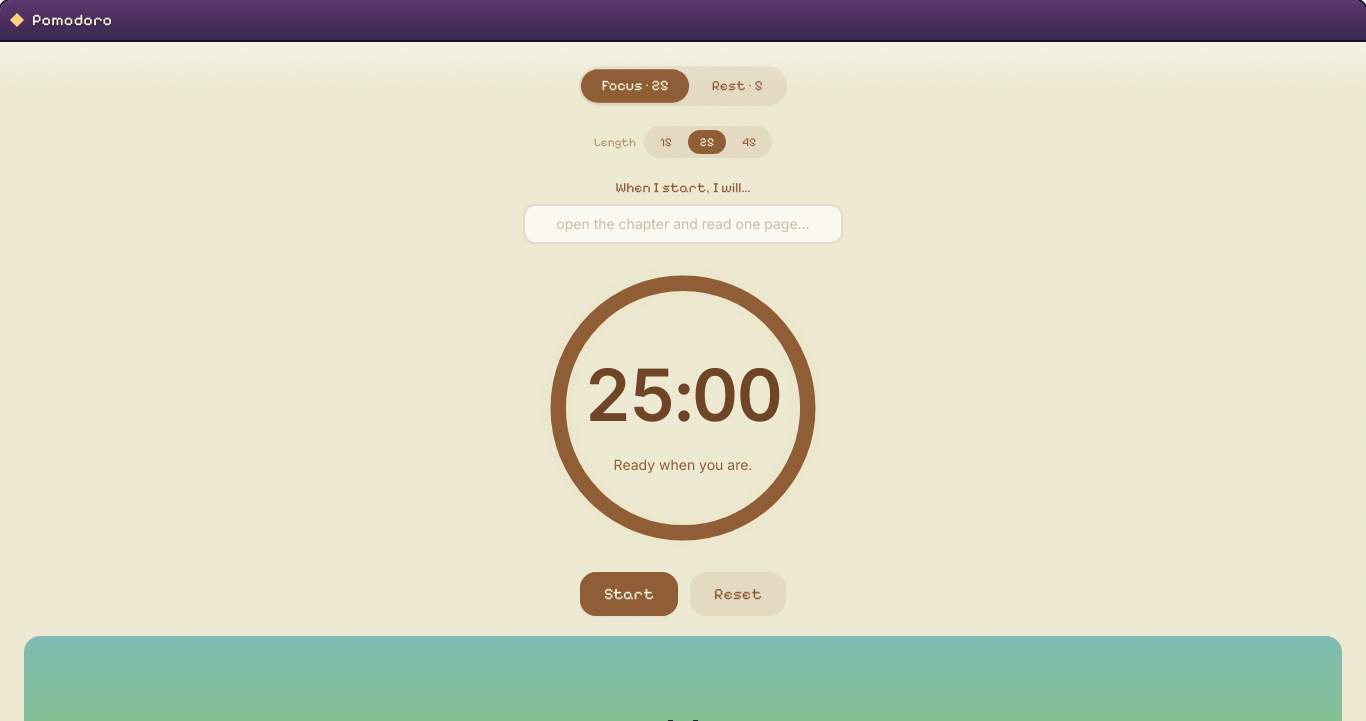
it: PomodoroTimer (timestamp-based countdown) › records a completed focus session to emily.stats when it reaches 0:00
Click the button "Start" at (629, 594), box [580, 572, 678, 616]
Wait 1500000 ms
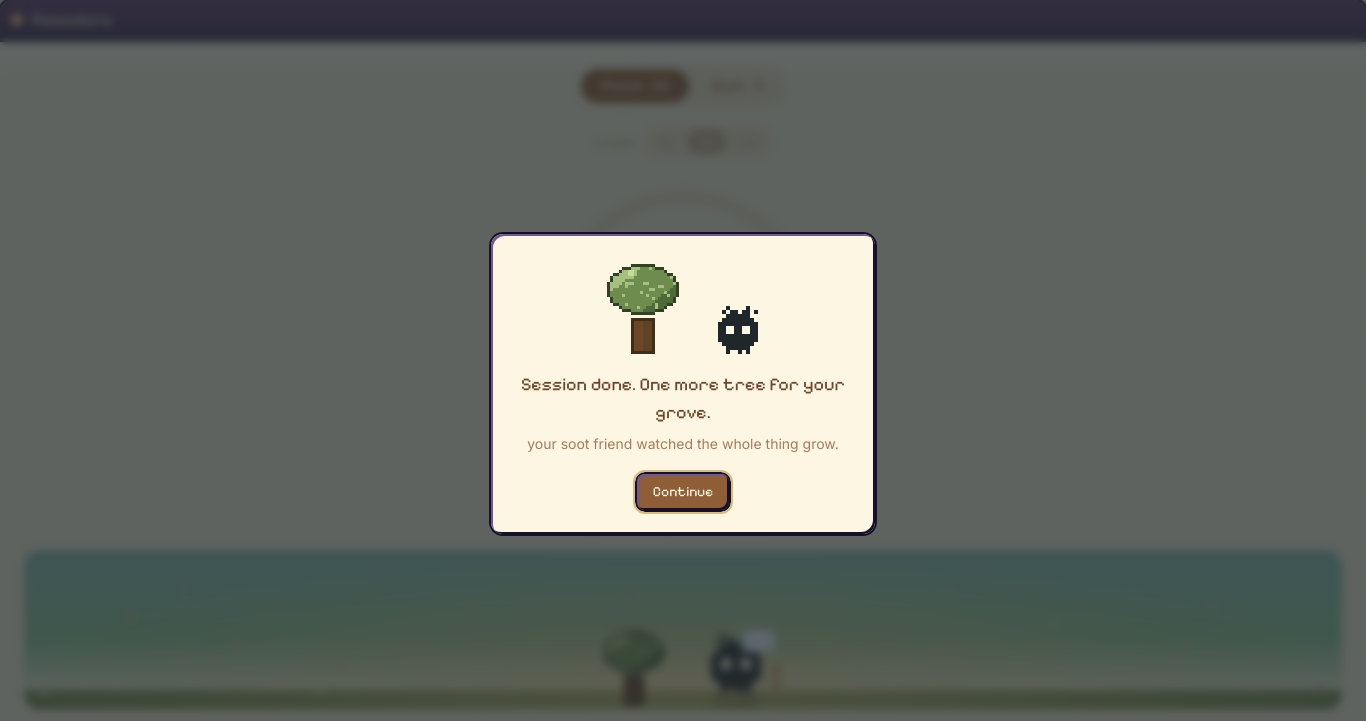
Expected: the text "00:00" is shown, [585, 255, 781, 363]
Expected: the text "Session done." is shown, [636, 369, 730, 389]
